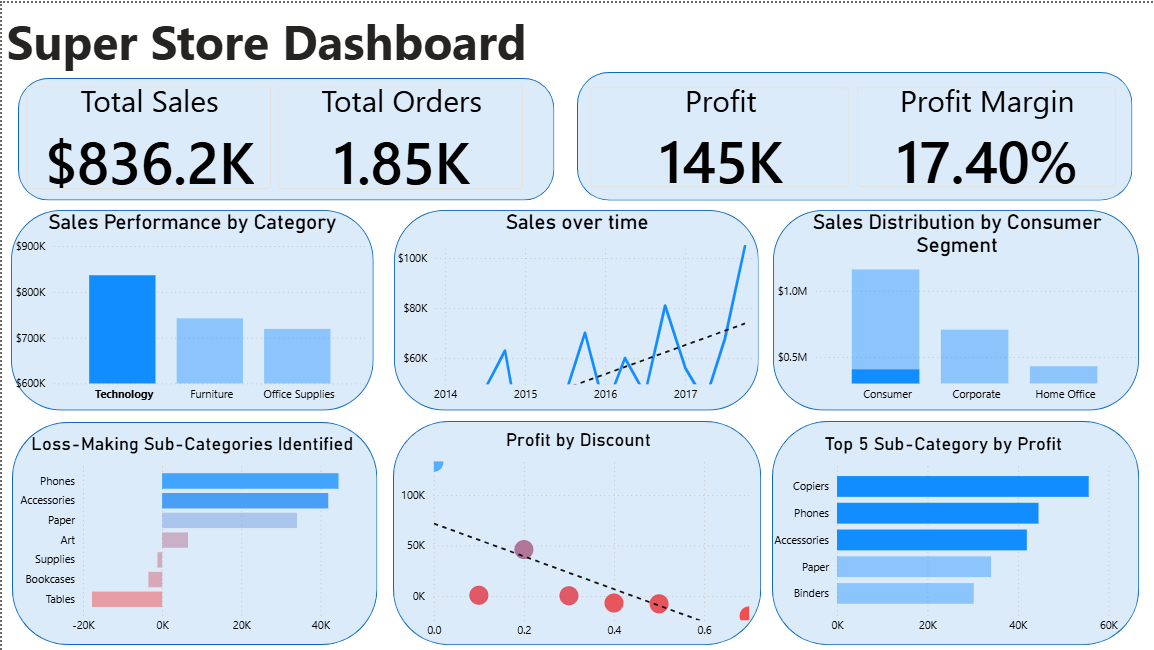

The dashboard page shown, as its layout file describes it:
{"tool":"powerbi","page":{"name":"Super store dashboard","canvas":[1280,720],"ordinal":0},"visuals":[{"type":"shape","box":[10,230.2,402.9,222.7],"z":0,"group":"g1"},{"type":"shape","box":[855.8,465.4,407.9,249],"z":1000,"group":"g1"},{"type":"shape","box":[434.2,465.4,409.1,249],"z":2000,"group":"g1"},{"type":"shape","box":[11.5,466.1,405.9,247.8],"z":3000,"group":"g1"},{"type":"shape","box":[857.1,230.2,406.6,222.7],"z":4000,"group":"g1"},{"type":"shape","box":[435.4,230.2,405.4,222.7],"z":6000,"group":"g1"},{"type":"shape","box":[17.4,84.2,595.9,136.1],"z":8000,"group":"g1"},{"type":"shape","box":[638.6,77.1,617.1,142.9],"z":9000,"group":"g1"},{"type":"group","id":"g1","title":"Group 1","box":[10,77.1,1253.7,637.3],"z":9500},{"type":"columnChart","title":"Sales Performance by Category","fields":{"Category":["Sheet2.Category"],"Y":["_measures.Total Sales"]},"box":[10,230.2,402.9,222.7],"z":10000},{"type":"lineChart","title":"Sales over time","fields":{"Category":["Sheet2.Order Date.Variation.Date Hierarchy.Year","Sheet2.Order Date.Variation.Date Hierarchy.Quarter","Sheet2.Order Date.Variation.Date Hierarchy.Month","Sheet2.Order Date.Variation.Date Hierarchy.Day"],"Y":["_measures.Total Sales"]},"box":[434.2,230.2,409.1,222.7],"z":11000},{"type":"textbox","box":[0,0,640,82.9],"z":12000},{"type":"cardVisual","fields":{"Data":["_measures.Total Sales","_measures.Total Orders"]},"box":[10,75,586.2,148.8],"z":13000},{"type":"cardVisual","fields":{"Data":["_measures.Profit","_measures.Profit Margin"]},"box":[637.1,77.1,618.6,145.7],"z":14000},{"type":"barChart","title":"Loss-Making Sub-Categories Identified","fields":{"Category":["Sheet2.Sub-Category"],"Y":["_measures.Profit"]},"box":[10,478,402.9,231.5],"z":15000},{"type":"clusteredBarChart","title":"Top 5 Sub-Category by Profit","fields":{"Category":["Sheet2.Sub-Category"],"Y":["_measures.Profit"]},"box":[848.3,478,396.6,231.5],"z":16000},{"type":"scatterChart","title":"Profit by Discount","fields":{"Y":["_measures.Profit"],"X":["Sheet2.Discount"]},"box":[437.9,473,405.4,241.5],"z":17000},{"type":"columnChart","title":"Sales Distribution by Consumer Segment","fields":{"Y":["_measures.Total Sales"],"Category":["Sheet2.Segment"]},"box":[857.1,230.2,409.1,222.7],"z":18000}]}

Visuals, with their boxes in screenshot pixels (x1, y1, x2, y2), scaled from the page's 1280x720 canvas onto the 1154x650 screenshot:
shape: <region>9, 208, 372, 409</region>
shape: <region>772, 420, 1139, 645</region>
shape: <region>391, 420, 760, 645</region>
shape: <region>10, 421, 376, 644</region>
shape: <region>773, 208, 1139, 409</region>
shape: <region>393, 208, 758, 409</region>
shape: <region>16, 76, 553, 199</region>
shape: <region>576, 70, 1132, 199</region>
"Group 1" group: <region>9, 70, 1139, 645</region>
"Sales Performance by Category" columnChart: <region>9, 208, 372, 409</region>
"Sales over time" lineChart: <region>391, 208, 760, 409</region>
textbox: <region>0, 0, 577, 75</region>
cardVisual - _measures.Total Sales x _measures.Total Orders: <region>9, 68, 538, 202</region>
cardVisual - _measures.Profit x _measures.Profit Margin: <region>574, 70, 1132, 201</region>
"Loss-Making Sub-Categories Identified" barChart: <region>9, 432, 372, 641</region>
"Top 5 Sub-Category by Profit" clusteredBarChart: <region>765, 432, 1122, 641</region>
"Profit by Discount" scatterChart: <region>395, 427, 760, 645</region>
"Sales Distribution by Consumer Segment" columnChart: <region>773, 208, 1142, 409</region>
